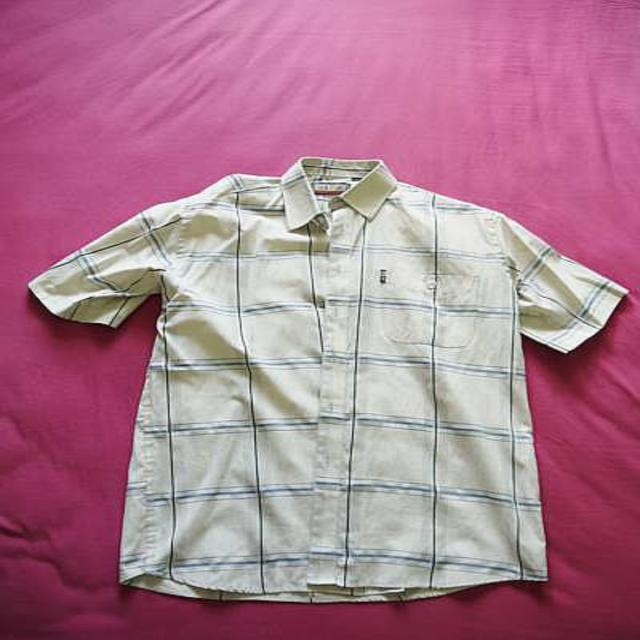SHIRT: (19, 147, 640, 608)
